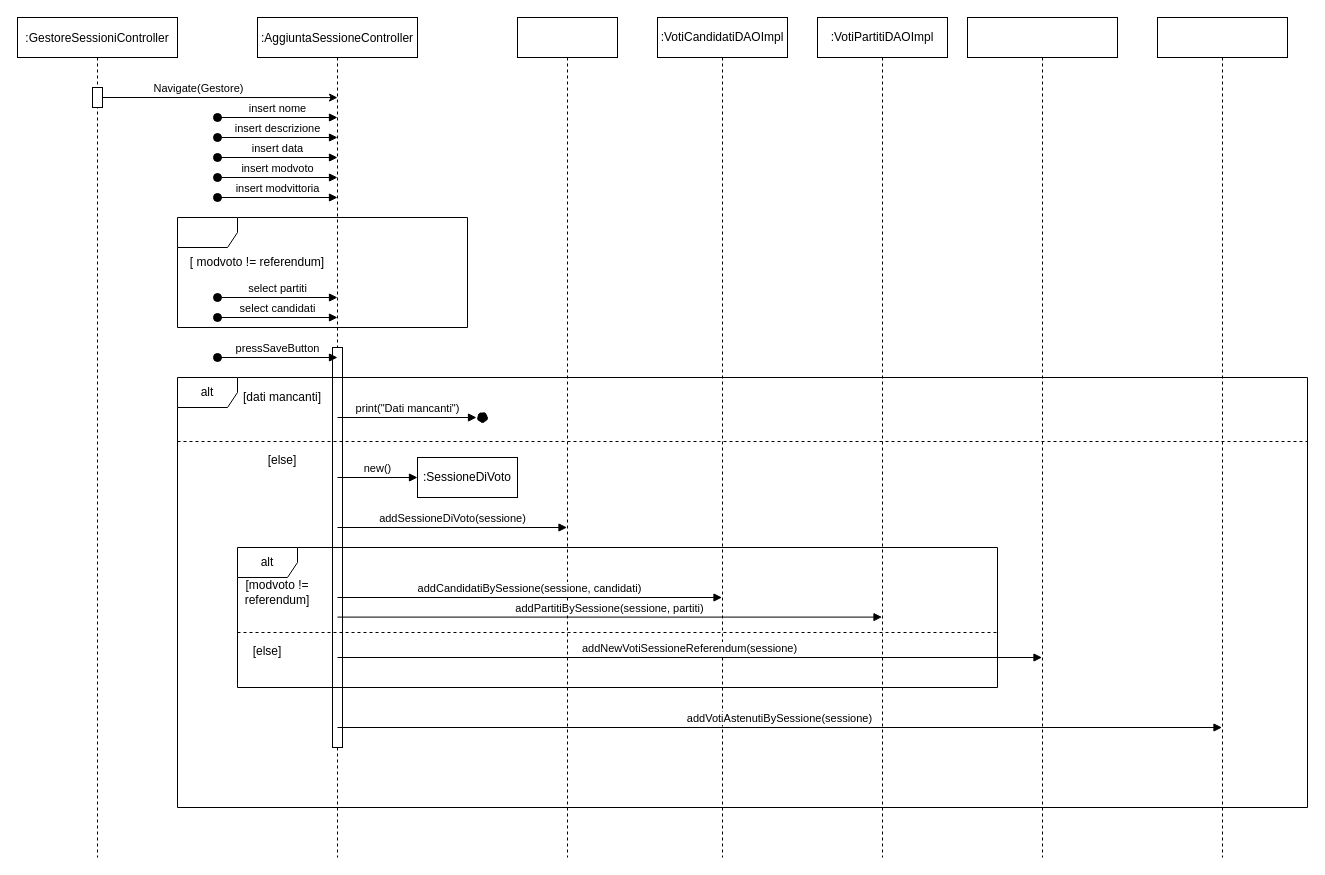
This 1325x875 diagram has some shape labels left out. Each missing label, with the box of its shape:
:SessioniDiVoto: (516, 16, 618, 858)
:VotiAstenutiDAOImpl: (1156, 16, 1288, 858)
:VotiReferendumDAOImpl: (966, 16, 1118, 858)
opt: (176, 216, 468, 328)
